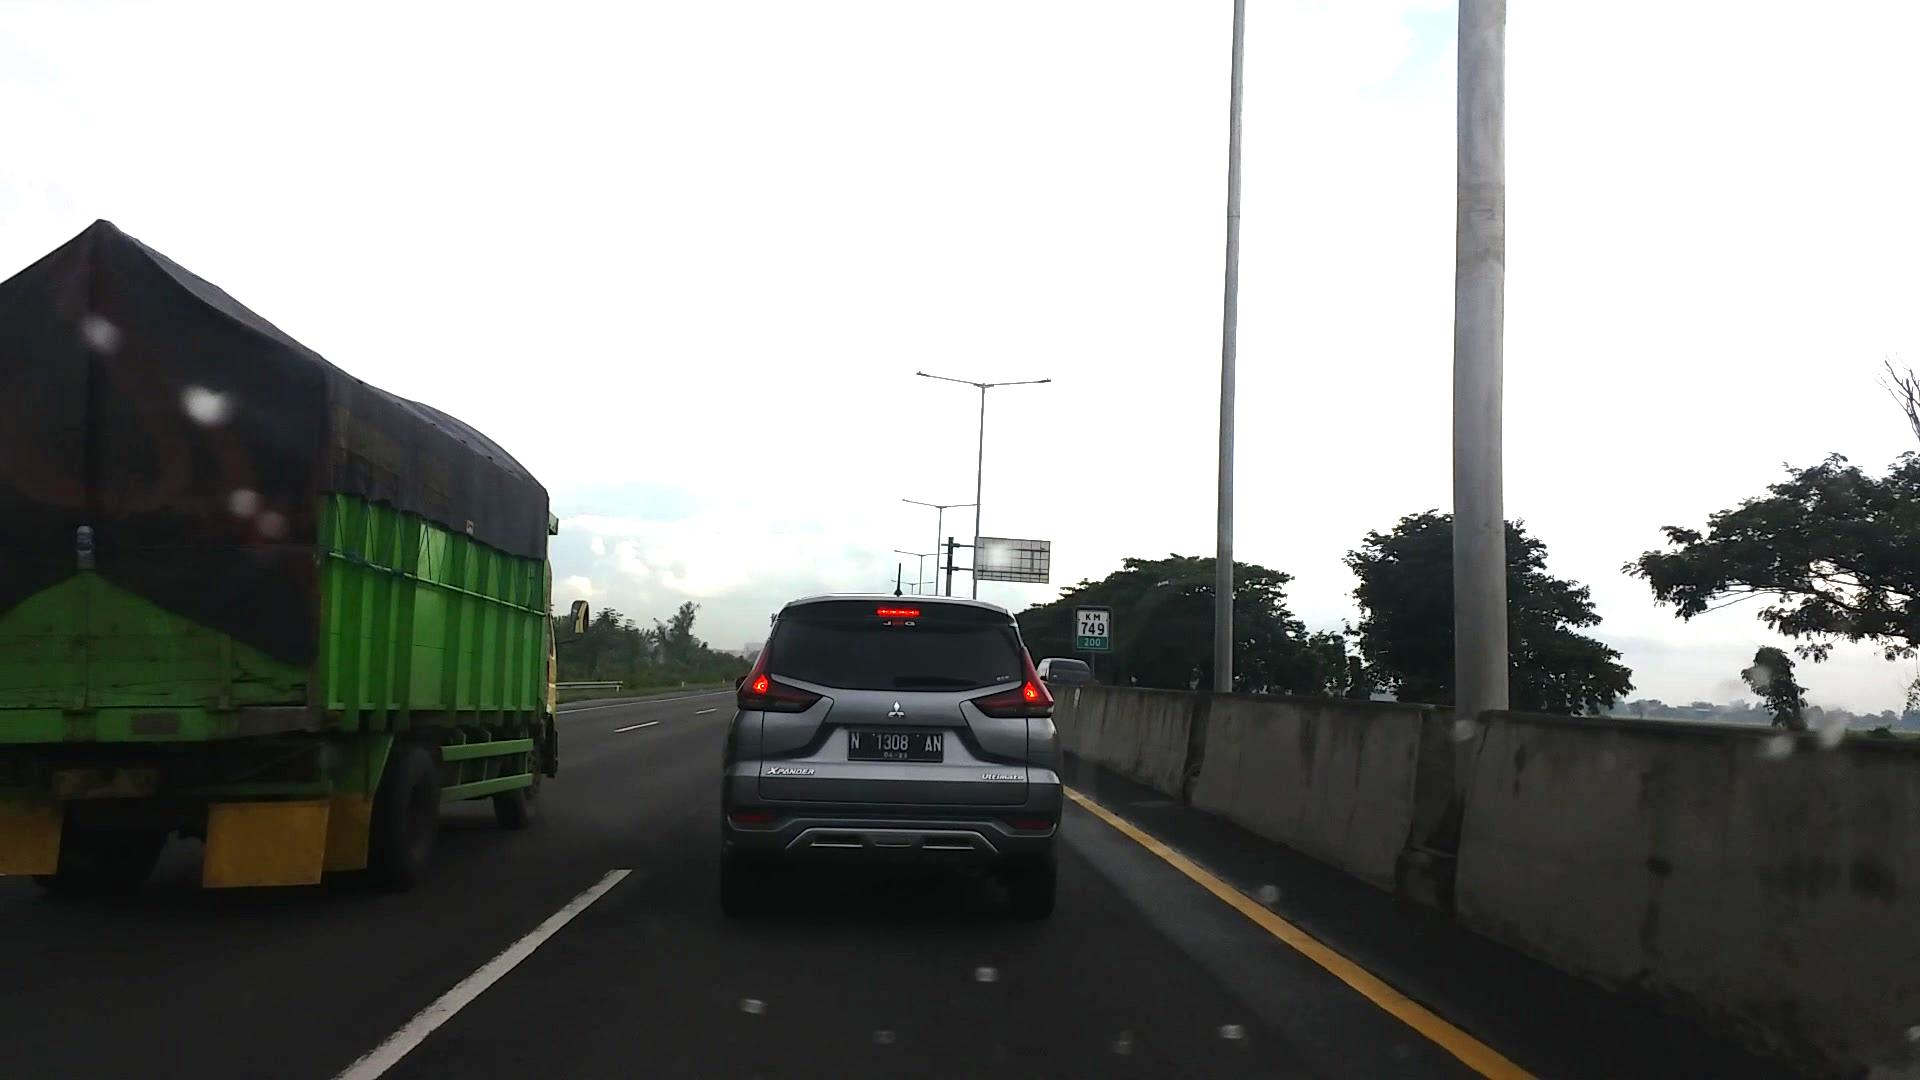plate_positive: (847, 729, 943, 762)
